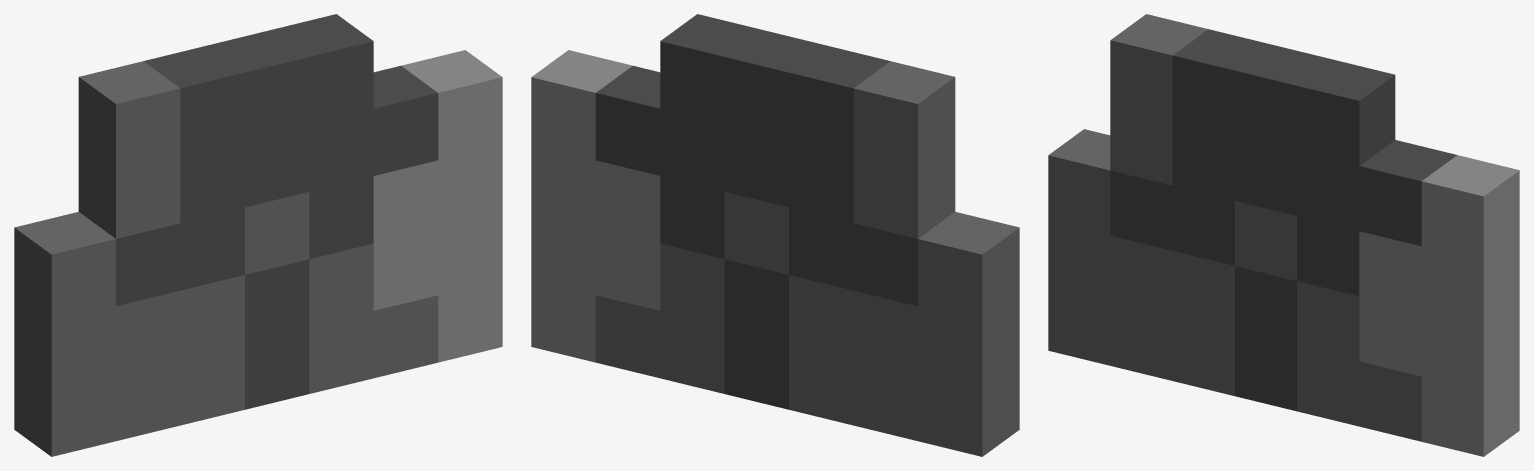
The model's file is Medieval Assets-197-Graveyard - Grave Stone - Variant3.obj.
3 views of the same model, side by side, from view 1: azimuth 30°, elevation 25°; view 2: azimuth 150°, elevation 25°; view 3: azimuth 330°, elevation 25° (orthographic). The views are drawn at different scales.
Visible parts, largest first — view 1: Graveyard - Grave Stone - Variant3; view 2: Graveyard - Grave Stone - Variant3; view 3: Graveyard - Grave Stone - Variant3.
Part boxes in pixels (left/top/right/bottom): Graveyard - Grave Stone - Variant3: left=14, top=14, right=502, bottom=456; Graveyard - Grave Stone - Variant3: left=531, top=14, right=1019, bottom=456; Graveyard - Grave Stone - Variant3: left=1048, top=14, right=1519, bottom=456.
Size of the model in its own units: 0.7 by 0.5 by 0.1.
1 material, 1 textured.
